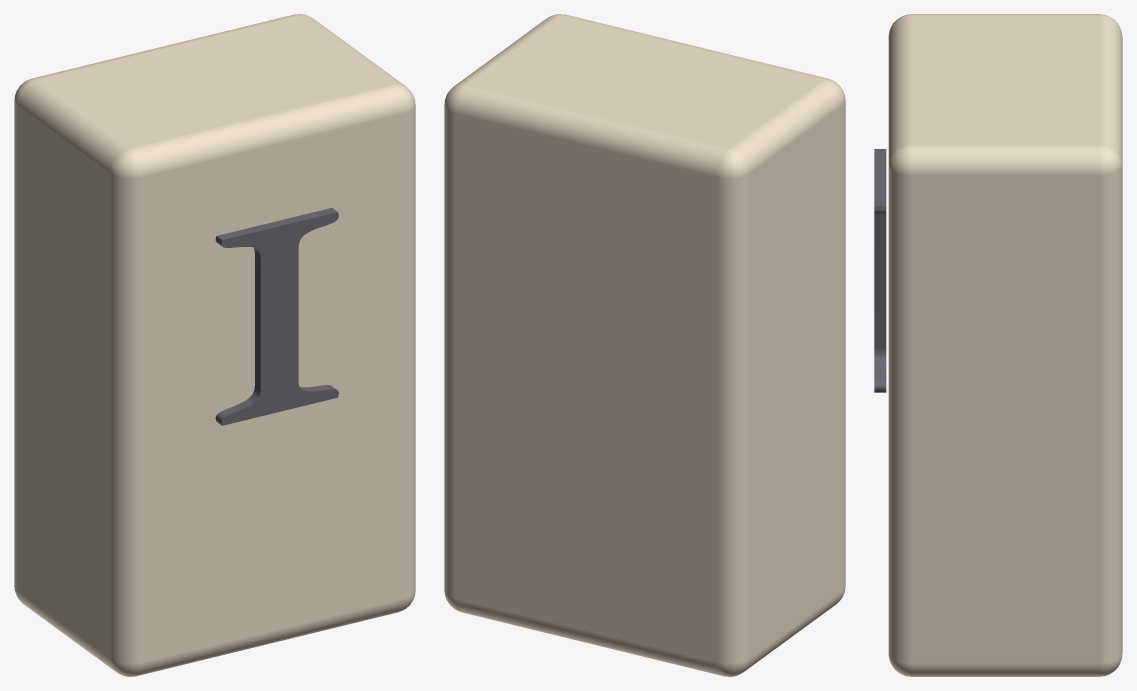
Rendered from pin_1.gltf.
The picture shows the model from 3 angles, left to right: view 1: azimuth 30°, elevation 25°; view 2: azimuth 150°, elevation 25°; view 3: azimuth 270°, elevation 25°; orthographic projection.
Parts seen in each view (by area): view 1: White, Black; view 2: White; view 3: White, Black.
Boxes of the visible parts, <box> form: White: <box>14,14,415,676</box>; Black: <box>215,208,338,425</box>; White: <box>444,14,845,676</box>; White: <box>888,14,1122,676</box>; Black: <box>874,149,886,392</box>.
Bounding box in the file's own units: 1.5 × 2.5 × 1.06.
